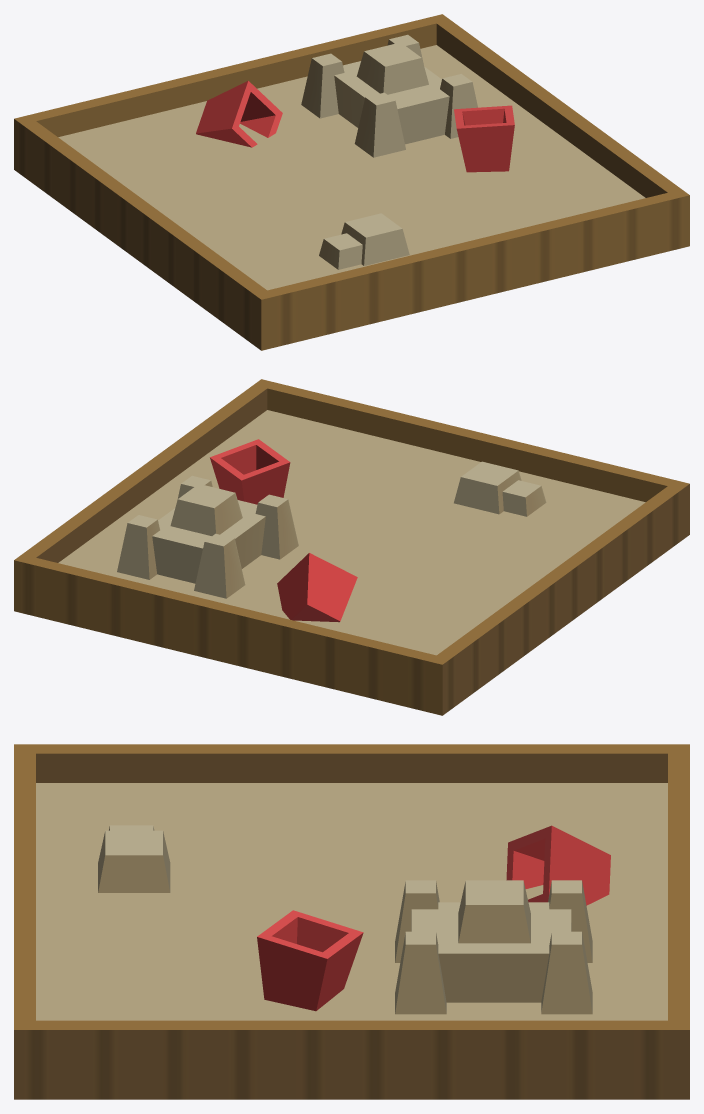
Rendered from SM_Sandpit_01.fbx.
3 views of the same model, one above another, from view 1: azimuth 30°, elevation 25°; view 2: azimuth 150°, elevation 25°; view 3: azimuth 270°, elevation 25° (orthographic). The views are drawn at different scales.
Visible parts, largest first — view 1: SM_Sandpit_01; view 2: SM_Sandpit_01; view 3: SM_Sandpit_01.
Part boxes in pixels (<box>): SM_Sandpit_01: <box>14,14,689,350</box>; SM_Sandpit_01: <box>14,379,689,715</box>; SM_Sandpit_01: <box>14,744,689,1099</box>.
Size of the model in its own units: 3.14 by 0.6484 by 3.14.
